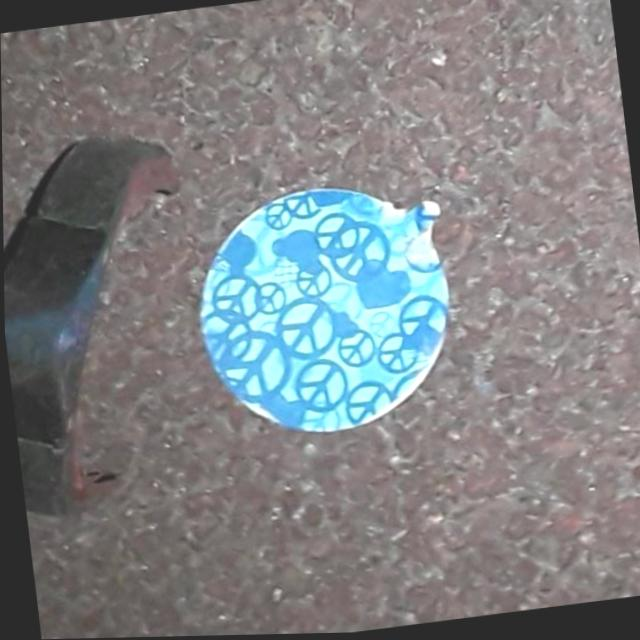Paper: (179, 166, 469, 451)
